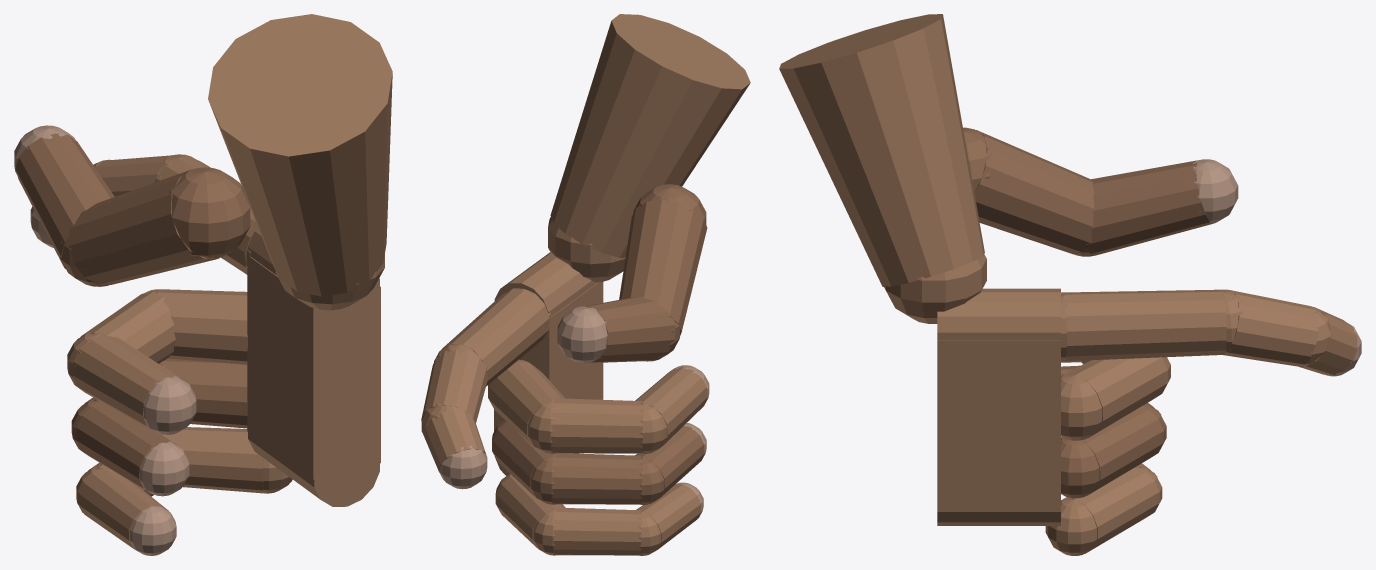
Rendered from hand_pistol_right.glb.
3 renders of one model, left to right at view 1: azimuth 30°, elevation 25°; view 2: azimuth 150°, elevation 25°; view 3: azimuth 270°, elevation 25°, orthographic. The views are drawn at different scales.
Parts seen in each view (by area): view 1: hand_pistol_right; view 2: hand_pistol_right; view 3: hand_pistol_right.
Part boxes in pixels (left/top/right/bottom): hand_pistol_right: left=14, top=14, right=392, bottom=555; hand_pistol_right: left=421, top=14, right=750, bottom=555; hand_pistol_right: left=779, top=14, right=1361, bottom=555.
Bounding box in the file's own units: 0.0703 × 0.1544 × 0.1603.
